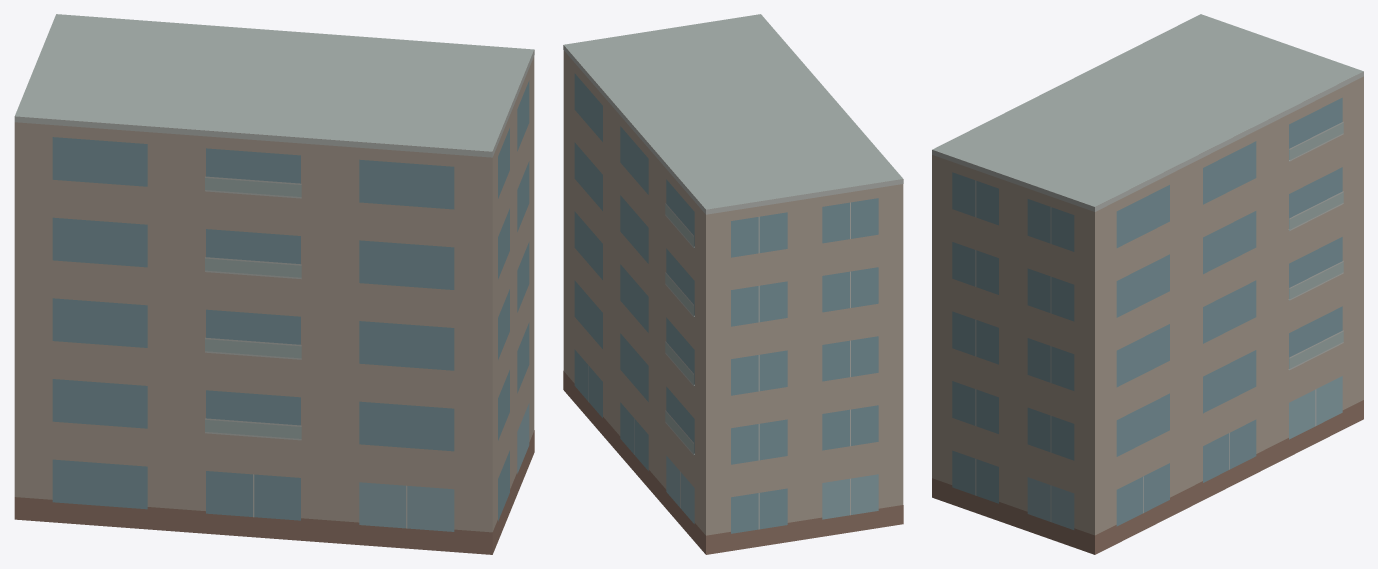
File: survey-upis-32978463.glb
The picture shows the model from 3 angles, left to right: view 1: azimuth 30°, elevation 25°; view 2: azimuth 150°, elevation 25°; view 3: azimuth 270°, elevation 25°; orthographic projection. The views are drawn at different scales.
Visible parts, largest first — view 1: survey-upis-32978463.tmp; view 2: survey-upis-32978463.tmp; view 3: survey-upis-32978463.tmp.
Boxes of the visible parts, x1,y1,x2,y2 form: survey-upis-32978463.tmp: [14, 14, 534, 554]; survey-upis-32978463.tmp: [563, 14, 903, 554]; survey-upis-32978463.tmp: [932, 14, 1363, 554].
Bounding box in the file's own units: 20 × 16.8 × 18.91.
